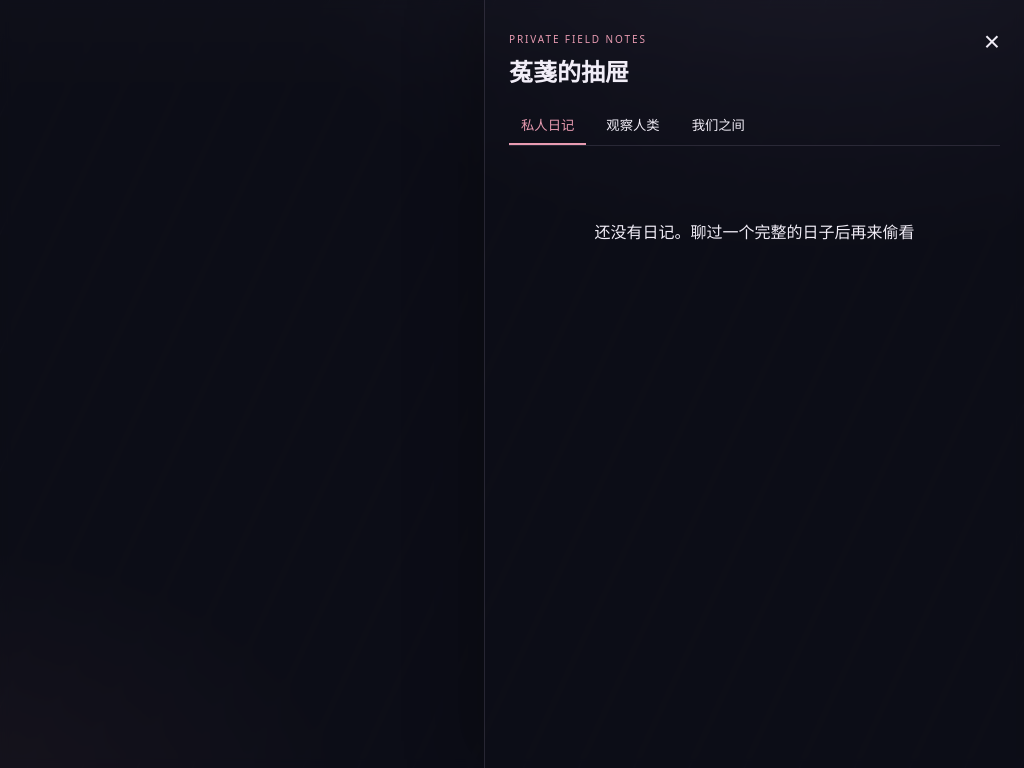
Test case: Q5 panel accessibility › renders relationship trust as short descriptions and at most two source dates
The image size is (1024, 768).
Click the button "我们之间" at [718, 126], box [680,106,757,145]
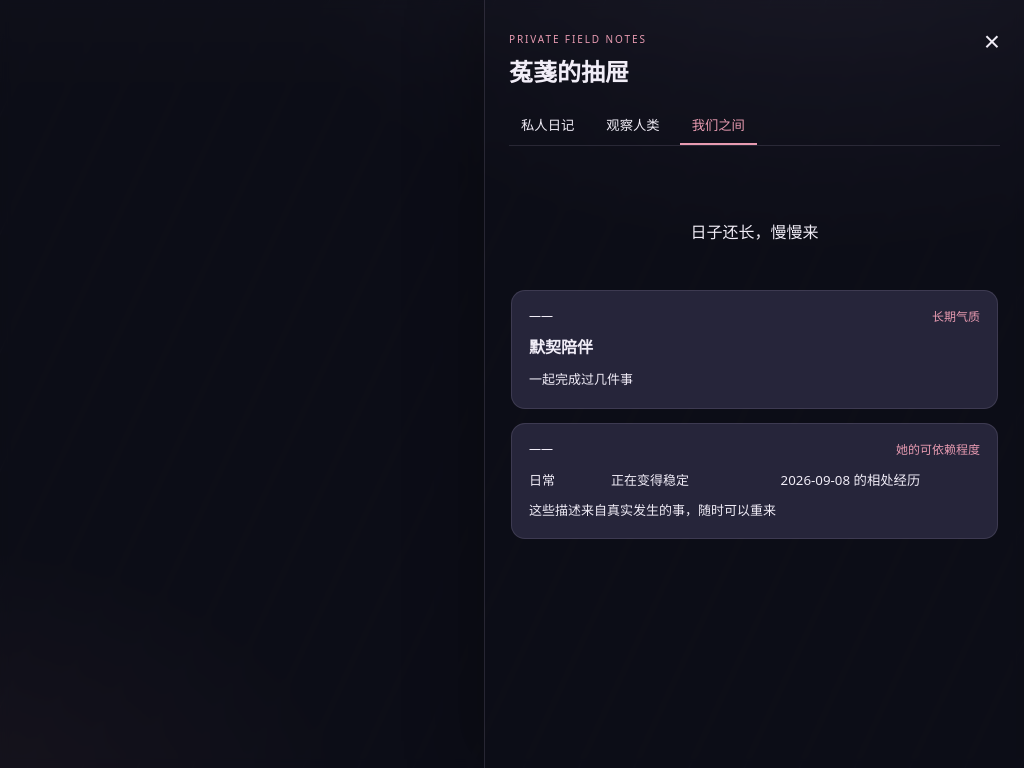
Now the text "默契陪伴" is shown, box [529,336,593,358]
Now the text "正在变得稳定" is shown, box [611,471,689,489]
Now the text "2026-09-08 的相处经历" is shown, box [780,471,920,489]
